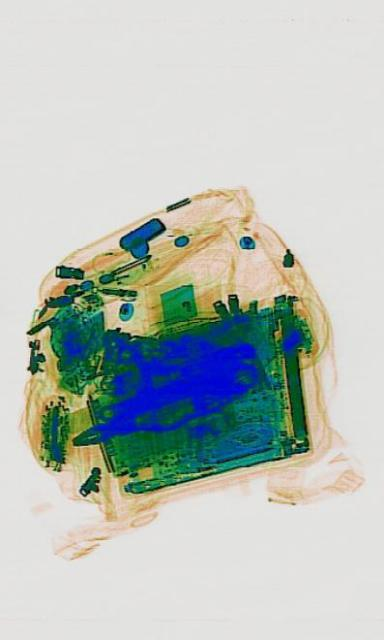Pliers: (65, 358, 219, 468)
